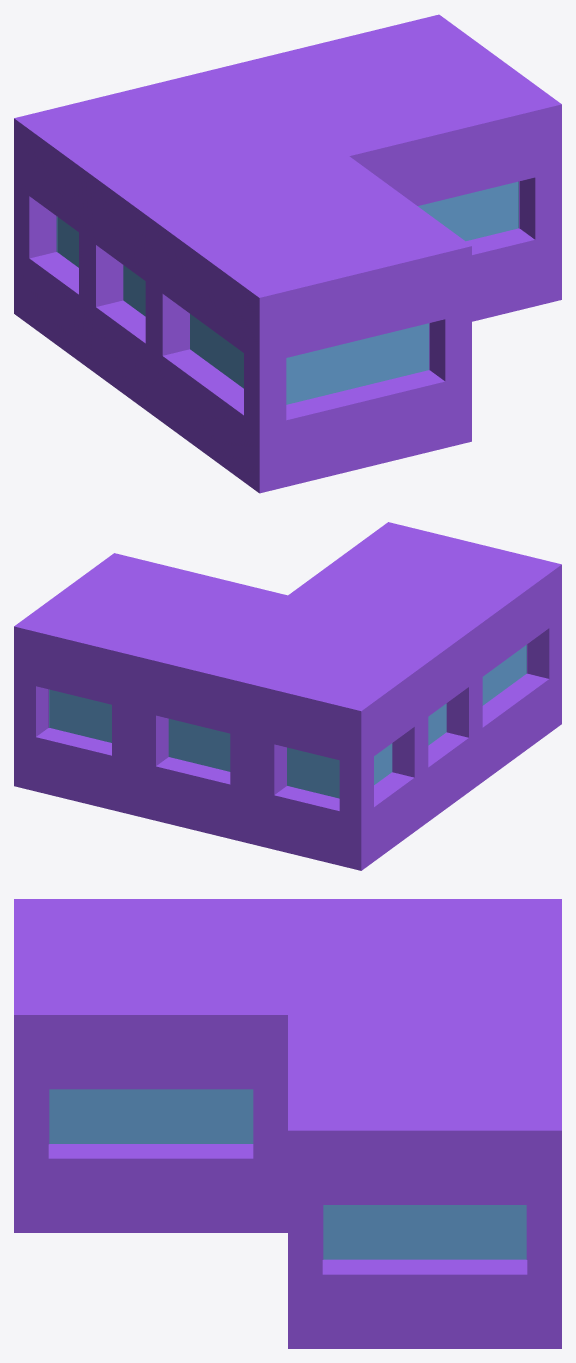
File: building_L_3_f.glb
The picture shows the model from 3 angles, top to bottom: view 1: azimuth 30°, elevation 25°; view 2: azimuth 150°, elevation 25°; view 3: azimuth 270°, elevation 25°; orthographic projection. The views are drawn at different scales.
Parts seen in each view (by area): view 1: Cube.001; view 2: Cube.001; view 3: Cube.001.
Part boxes in pixels (x1=…): Cube.001: x1=14, y1=14, x2=561, y2=493; Cube.001: x1=14, y1=522, x2=561, y2=870; Cube.001: x1=14, y1=899, x2=561, y2=1348.
Bounding box in the file's own units: 3.64 × 1.6 × 3.64.
